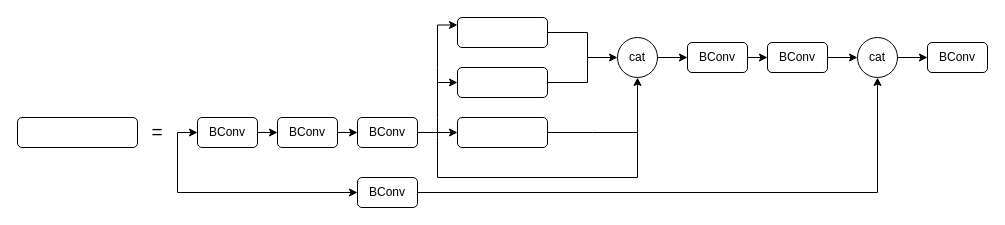
Some shapes in this 1005 by 225 pixel diagram are drawn without their labels. The centre of each missing label's shape, as x and y in pixels:
"Maxpooling 13" belongs at (502,132).
"Maxpooling 5" belongs at (502,32).
"Maxpooling 9" belongs at (502,82).
"SPPCSPC" belongs at (77,132).
